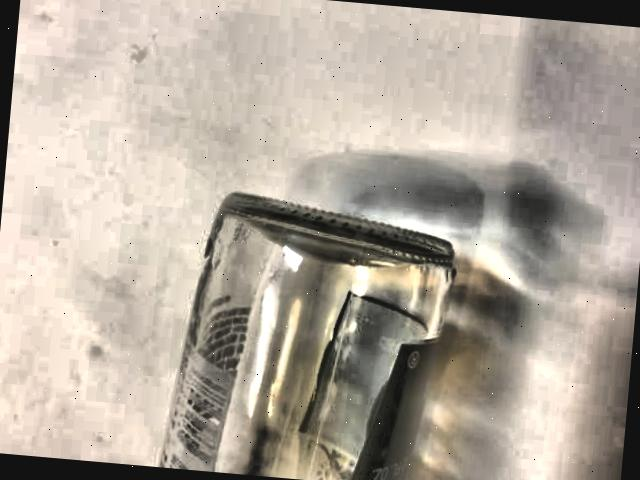Bottles: (131, 171, 479, 480)
